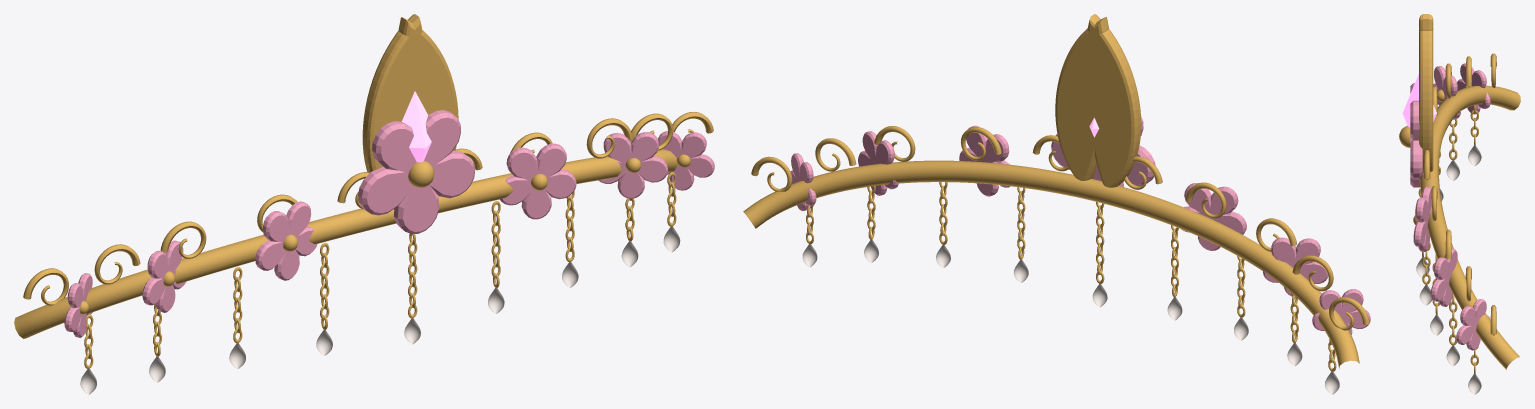
The model's file is tiara.glb.
The picture shows the model from 3 angles, left to right: view 1: azimuth 30°, elevation 25°; view 2: azimuth 150°, elevation 25°; view 3: azimuth 270°, elevation 25°; orthographic projection. The views are drawn at different scales.
Visible parts, largest first — view 1: blossoms, band, spire, filigree, dropChains, pearls, blossomHearts, centerGem; view 2: band, spire, blossoms, filigree, dropChains, pearls; view 3: blossoms, band, spire, filigree, pearls, dropChains, centerGem, blossomHearts.
Boxes of the visible parts, left/top/right/bottom form: blossoms: left=64, top=110, right=714, bottom=337; band: left=14, top=149, right=677, bottom=338; spire: left=362, top=14, right=458, bottom=209; filigree: left=23, top=112, right=713, bottom=305; dropChains: left=84, top=172, right=676, bottom=368; pearls: left=80, top=226, right=680, bottom=394; blossomHearts: left=80, top=154, right=690, bottom=314; centerGem: left=402, top=91, right=431, bottom=162; band: left=743, top=160, right=1359, bottom=368; spire: left=1055, top=14, right=1141, bottom=187; blossoms: left=790, top=116, right=1370, bottom=334; filigree: left=751, top=126, right=1369, bottom=330; dropChains: left=806, top=182, right=1336, bottom=371; pearls: left=802, top=239, right=1339, bottom=394; blossoms: left=1410, top=63, right=1490, bottom=350; band: left=1420, top=85, right=1520, bottom=370; spire: left=1419, top=14, right=1433, bottom=173; filigree: left=1424, top=53, right=1496, bottom=335; pearls: left=1416, top=145, right=1481, bottom=394; dropChains: left=1418, top=105, right=1478, bottom=373; centerGem: left=1402, top=74, right=1436, bottom=127; blossomHearts: left=1399, top=85, right=1471, bottom=279.
Size of the model in its own units: 1.99 by 0.9088 by 0.3797.
